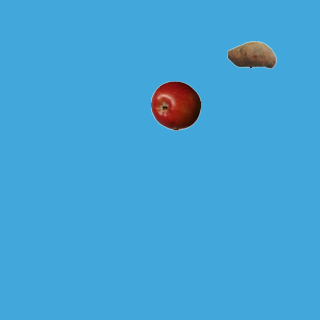Apple Braeburn: (150, 80, 200, 130)
Potato Sweet: (226, 29, 276, 79)
